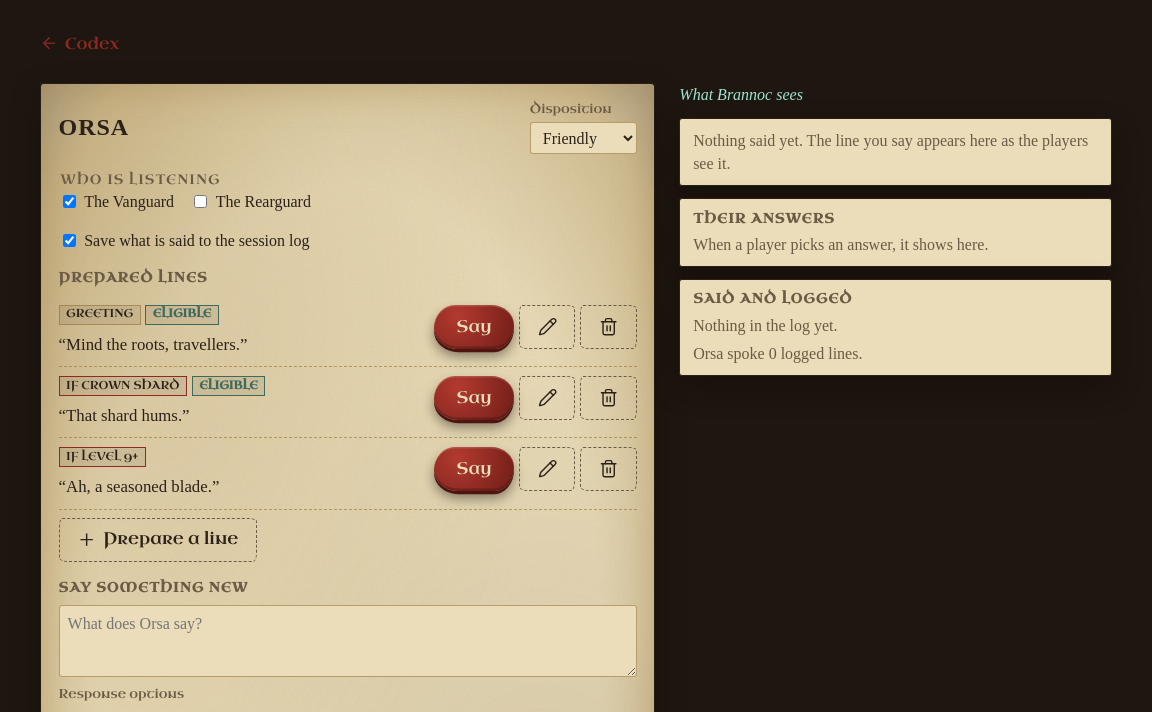
the DM’s dialogue tool › says a prepared line to the listening group, logged; it is then marked said and previewed as players see it
Click the button with aria-label "Say: Mind the roots, travellers.".
click(474, 327)  # box left=434, top=305, right=514, bottom=349
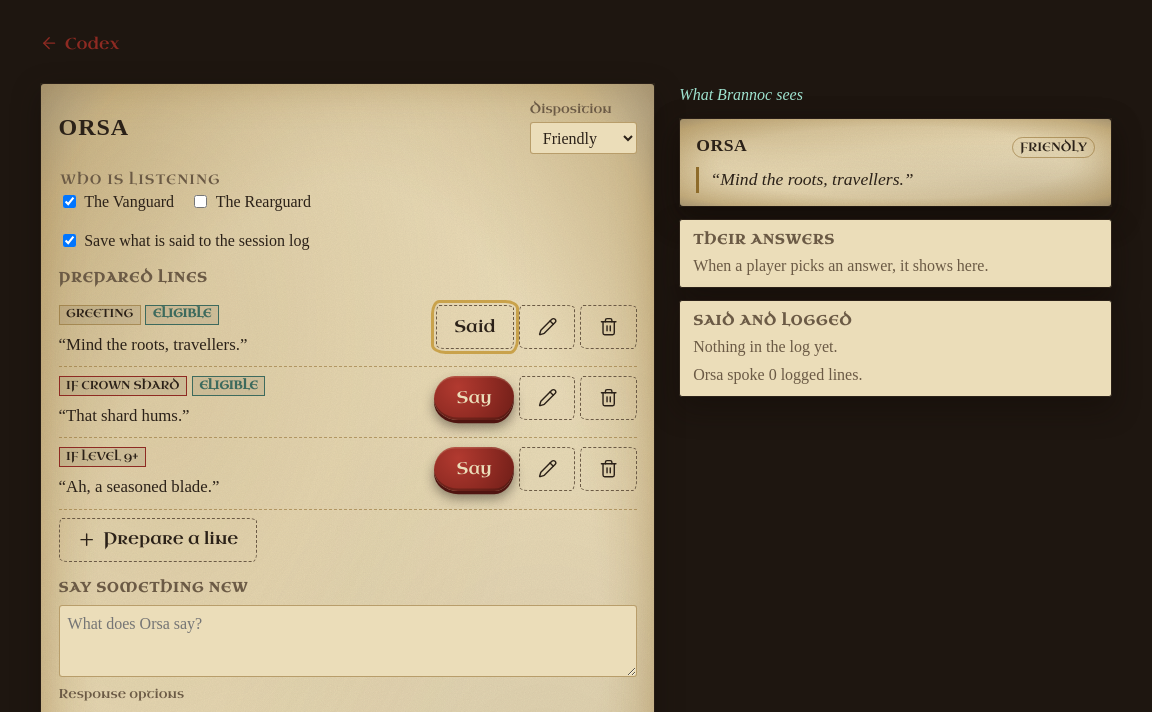
Expected: the text "What Brannoc sees" is shown, left=679, top=86, right=803, bottom=103
Expected: the button with aria-label "Say: Mind the roots, travellers." reads "Said", left=436, top=305, right=514, bottom=349
Expected: the text "“Mind the roots, travellers.”" below "Friendly" is shown, left=710, top=169, right=914, bottom=189
